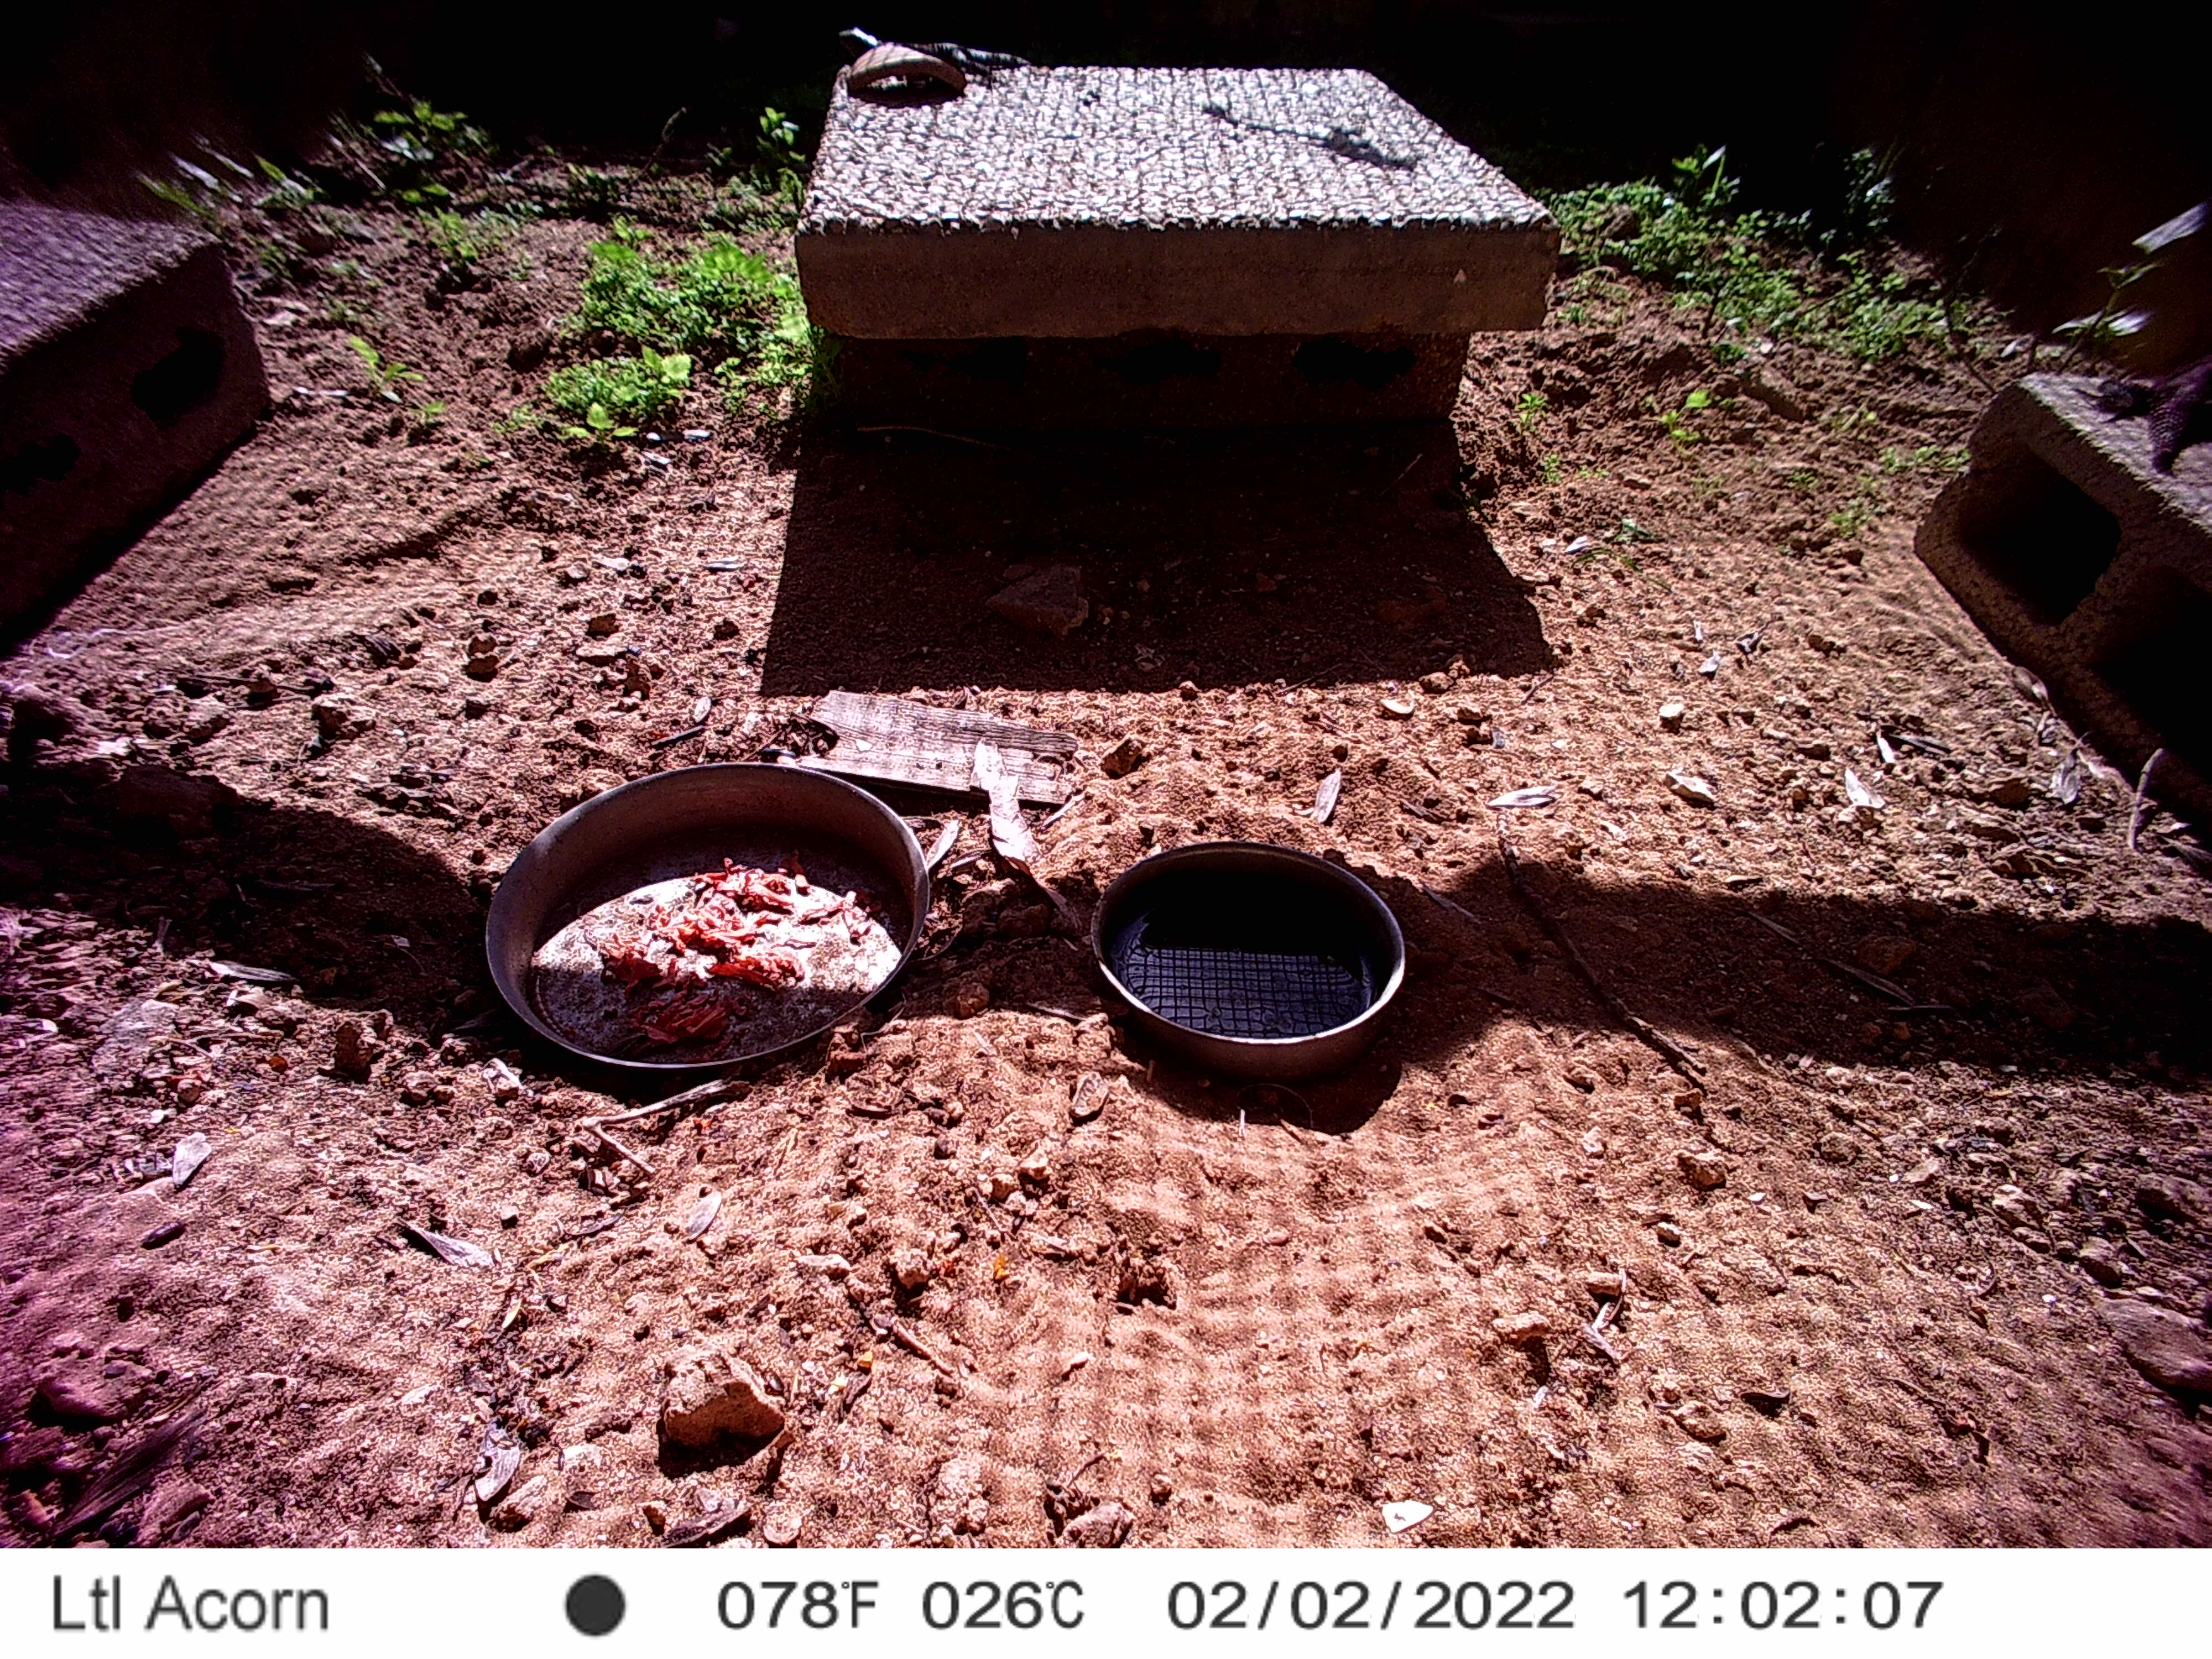lizard: (2008, 617, 2209, 1009), (249, 730, 510, 948), (3, 401, 233, 505)
